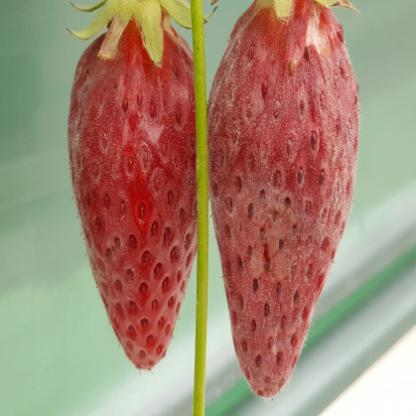Strawberry_Powdery_Mildew_Fruit: (206, 0, 362, 400), (68, 15, 200, 373)
